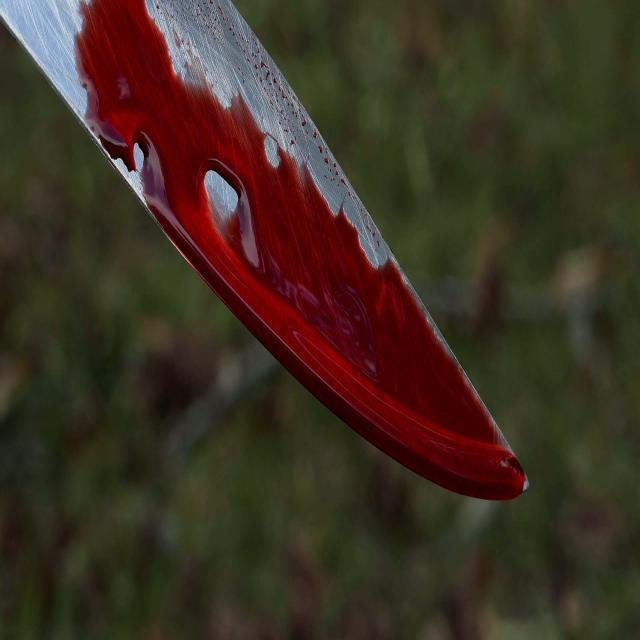flood: (76, 1, 529, 504)
